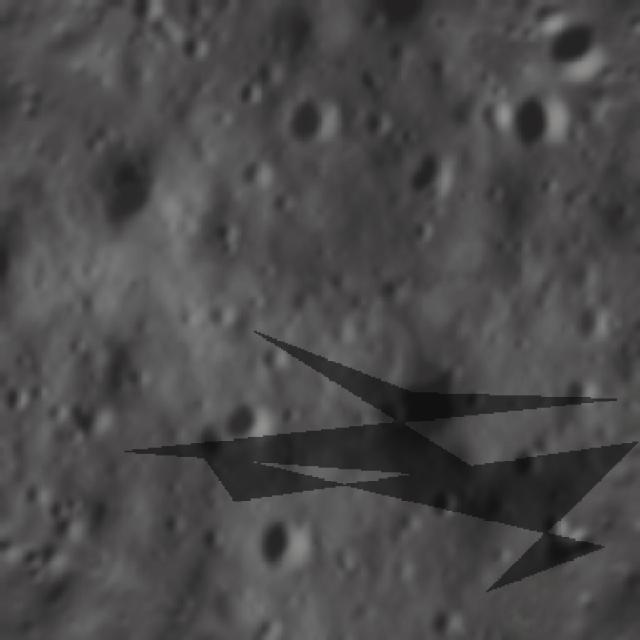crater: (267, 80, 359, 172), (244, 504, 324, 585), (396, 138, 472, 220), (494, 85, 569, 162), (415, 482, 477, 538), (215, 395, 270, 451), (416, 589, 476, 640), (504, 441, 554, 488), (0, 373, 42, 419)
